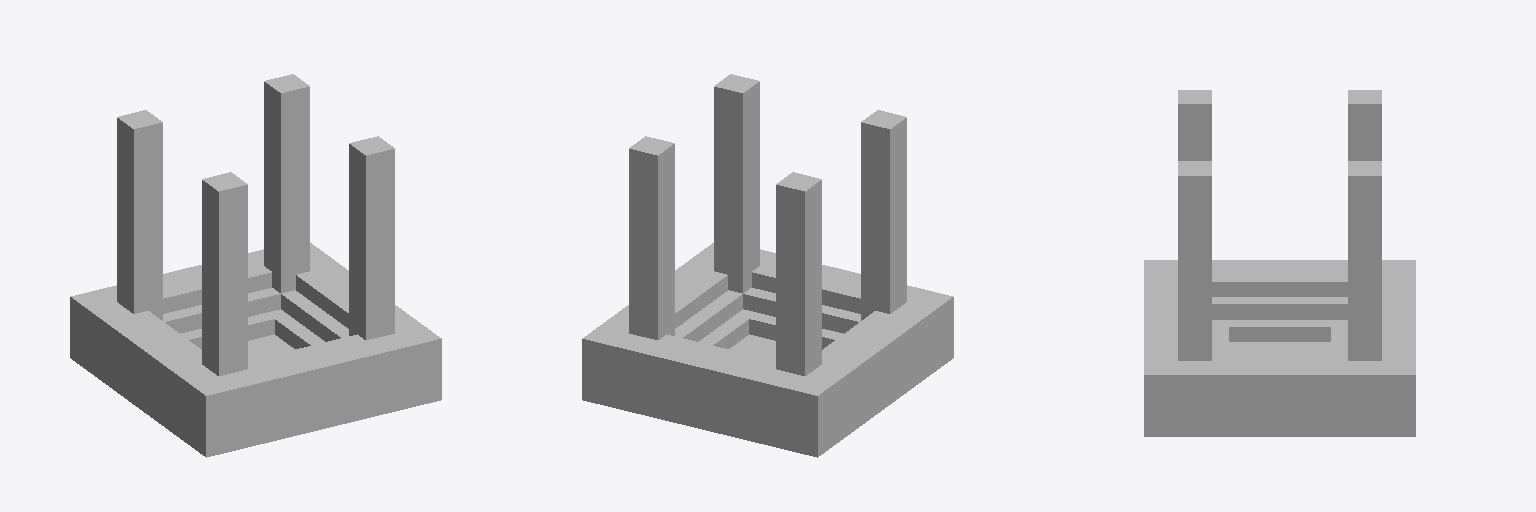
The model's file is drilled hole.obj.
The picture shows the model from 3 angles: view 1: azimuth 30°, elevation 25°; view 2: azimuth 150°, elevation 25°; view 3: azimuth 270°, elevation 25°; orthographic projection.
Visible parts, largest first — view 1: object 1; view 2: object 1; view 3: object 1.
Boxes of the visible parts, x1,y1,x2,y2 form: object 1: [70, 74, 441, 457]; object 1: [582, 74, 953, 457]; object 1: [1144, 90, 1415, 436].
Size of the model in its own units: 1.6 by 1.6 by 1.6.